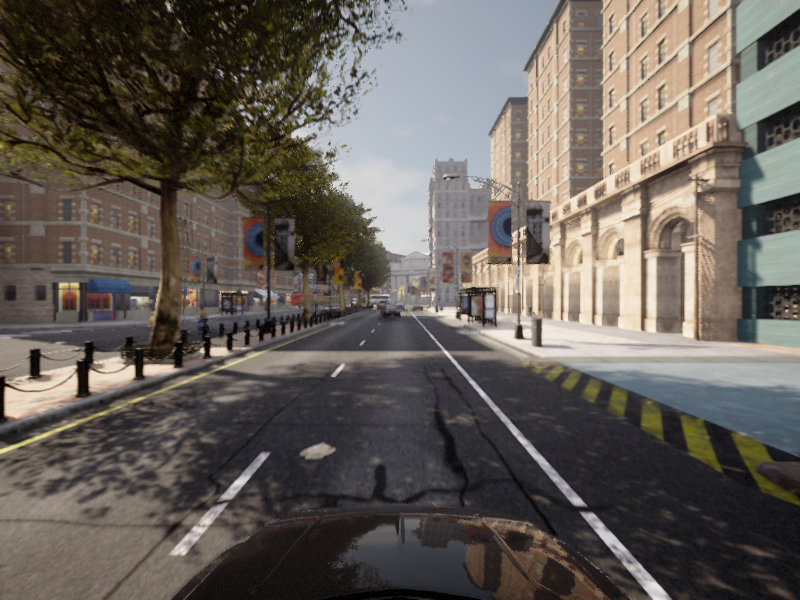vehicle: (1, 1, 799, 599), (141, 305, 175, 329), (187, 306, 215, 335), (379, 305, 401, 318)
